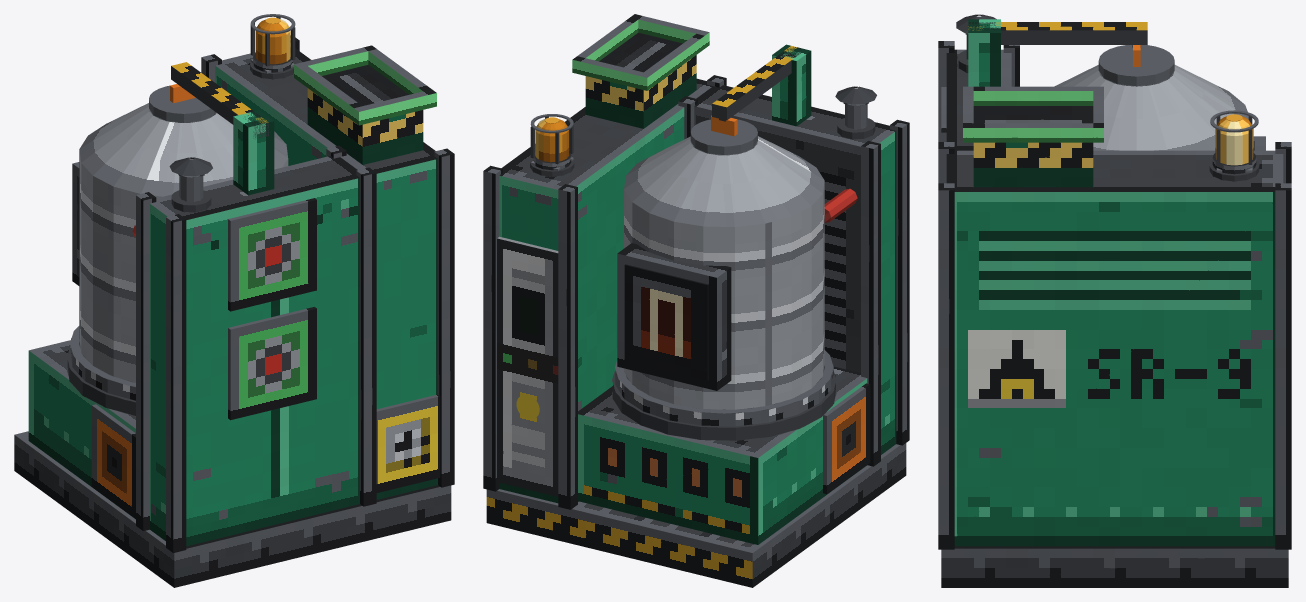
Rendered from siemens_reactor.glb.
The picture shows the model from 3 angles, left to right: view 1: azimuth 30°, elevation 25°; view 2: azimuth 150°, elevation 25°; view 3: azimuth 270°, elevation 25°; orthographic projection. The views are drawn at different scales.
Visible parts, largest first — view 1: body, body_glow; view 2: body, shape_0, body_glow; view 3: body, part_0_glow.
Boxes of the visible parts, x1=… form: body: x1=14, y1=14, x2=454, y2=587; body_glow: x1=255, y1=19, x2=286, y2=64; body: x1=483, y1=14, x2=909, y2=587; shape_0: x1=624, y1=264, x2=708, y2=380; body_glow: x1=539, y1=119, x2=568, y2=162; body: x1=938, y1=14, x2=1291, y2=587; part_0_glow: x1=1216, y1=119, x2=1252, y2=165.
Size of what is drawn, in the model's own units: 2.03 by 2.97 by 2.03.
Materials: 1 (1 with a texture image).
